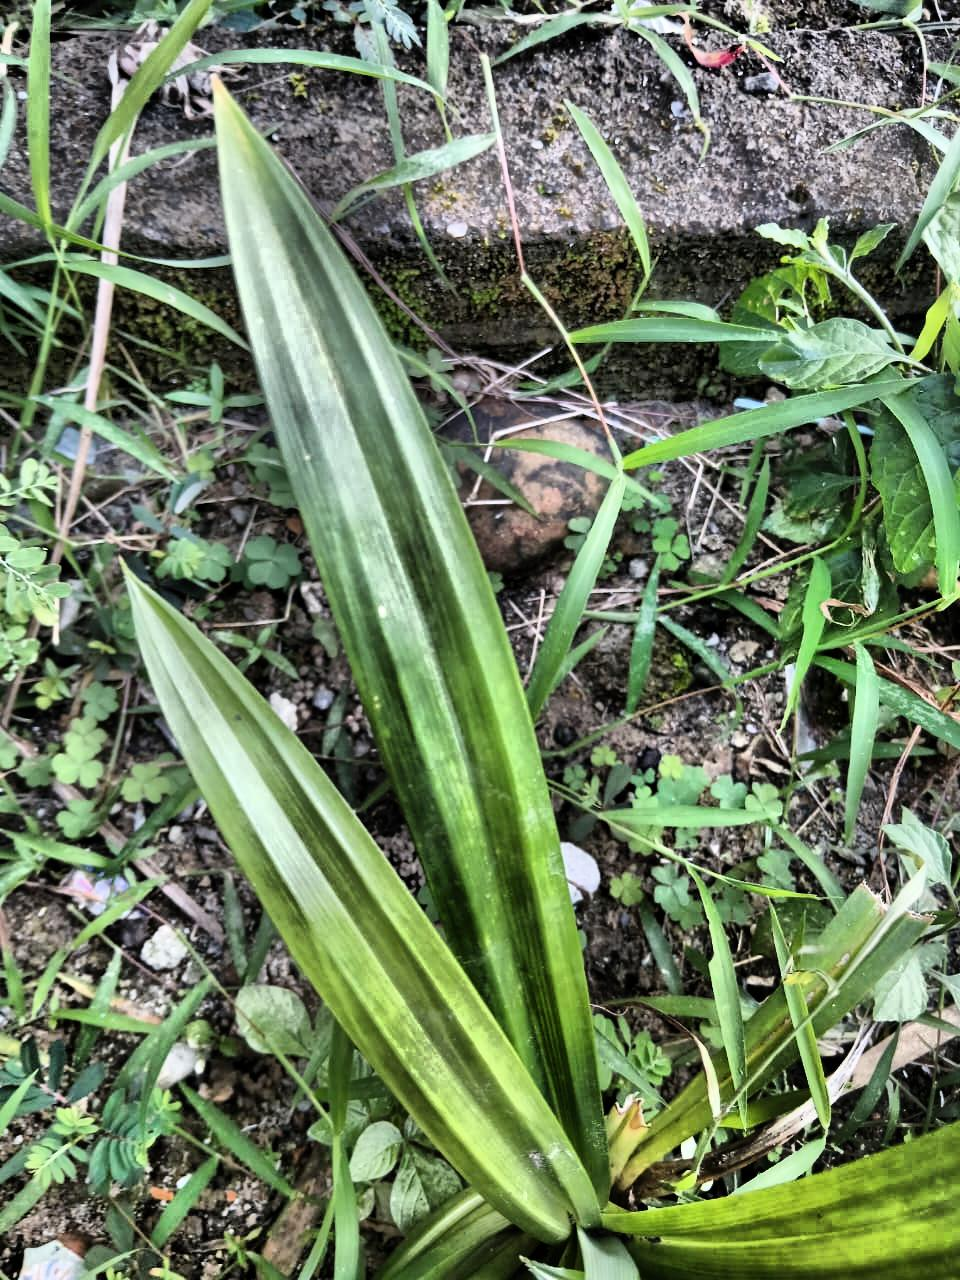daun pandan: (128, 82, 959, 1279)
